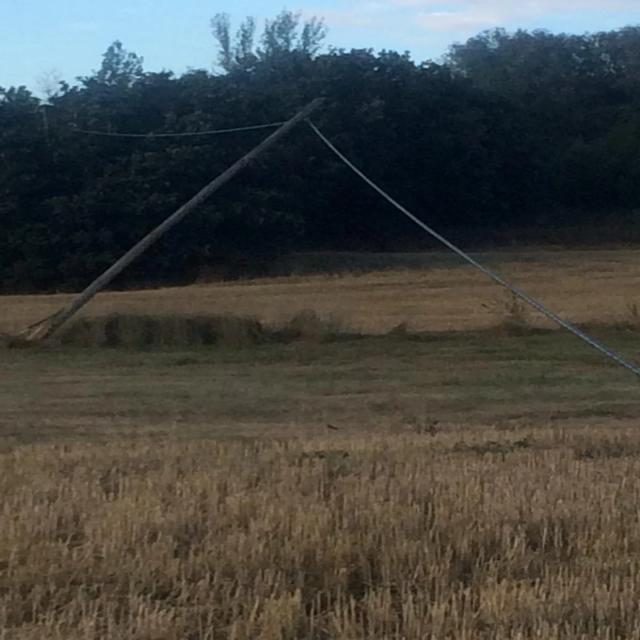Inclined Pole: (34, 93, 332, 334)
